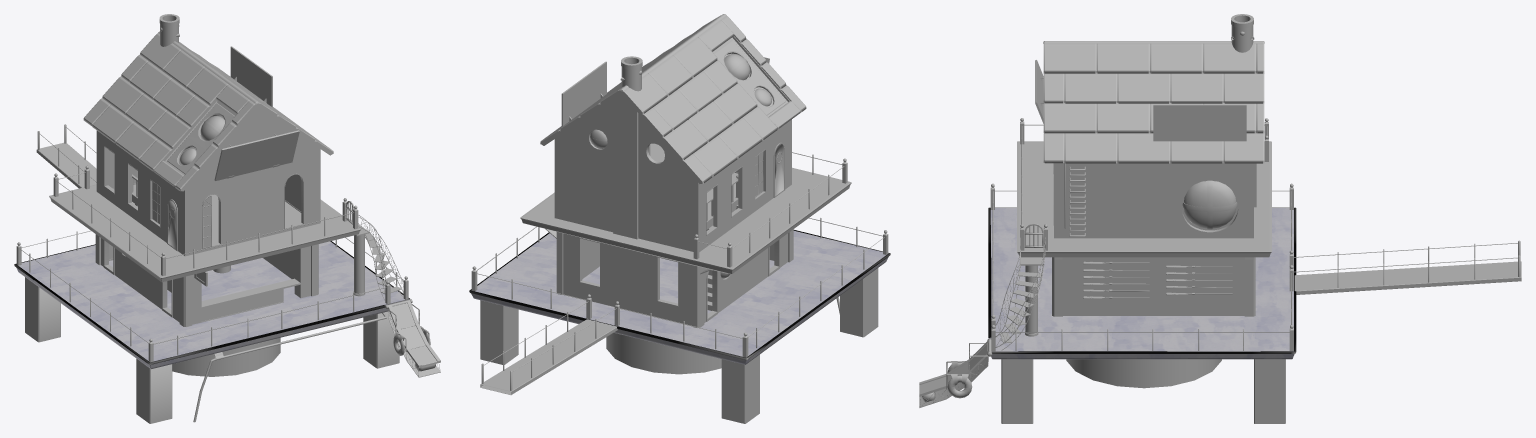
The model's file is ARIACompany0226.fbx.
3 views of the same model, side by side, from view 1: azimuth 30°, elevation 25°; view 2: azimuth 150°, elevation 25°; view 3: azimuth 270°, elevation 25° (orthographic). The views are drawn at different scales.
Visible parts, largest first — view 1: Ground_1st, Wall_2nd_3rd, Roof01, 2nd_Ground, Wall_1st, ARIAboard_01, Cylinder01, Plane09, 1f_FrontCounter, Plane11, Plane10, GondolaStair (+14 smaller); view 2: Ground_1st, Wall_2nd_3rd, Roof01, Wall_1st, 2nd_Ground, Fireplace_Chimney_Interior, Bridge, Cylinder01, Plane11, Plane12, Plane09, Ground_1st_Decals01 (+10 smaller); view 3: RoofBrick_23, Ground_1st, Wall_2nd_3rd, Wall_1st, 2nd_Ground, Bridge, ARIAboard_02, Cylinder01, WindowBigBubble, Plane10, Plane12, Ground_1st_Decals01 (+8 smaller).
Part boxes in pixels (bbox=[...]): Ground_1st: bbox=[16, 241, 409, 369]; Wall_2nd_3rd: bbox=[96, 107, 320, 256]; Roof01: bbox=[83, 33, 255, 191]; 2nd_Ground: bbox=[49, 184, 361, 282]; Wall_1st: bbox=[101, 206, 310, 324]; ARIAboard_01: bbox=[214, 130, 299, 180]; Cylinder01: bbox=[172, 337, 280, 376]; Plane09: bbox=[136, 359, 172, 423]; 1f_FrontCounter: bbox=[201, 278, 300, 322]; Plane11: bbox=[25, 277, 60, 342]; Plane10: bbox=[363, 311, 399, 368]; GondolaStair: bbox=[388, 301, 440, 367]; Ground_1st: bbox=[471, 230, 888, 364]; Wall_2nd_3rd: bbox=[554, 100, 791, 251]; Roof01: bbox=[623, 16, 806, 183]; Wall_1st: bbox=[563, 233, 787, 325]; 2nd_Ground: bbox=[520, 167, 851, 273]; Fireplace_Chimney_Interior: bbox=[613, 95, 650, 239]; Bridge: bbox=[480, 319, 617, 394]; Cylinder01: bbox=[606, 332, 721, 374]; Plane11: bbox=[721, 354, 759, 423]; Plane12: bbox=[480, 300, 518, 364]; Plane09: bbox=[840, 268, 878, 337]; Ground_1st_Decals01: bbox=[469, 230, 890, 360]; RoofBrick_23: bbox=[1043, 43, 1264, 163]; Ground_1st: bbox=[988, 208, 1294, 359]; Wall_2nd_3rd: bbox=[1054, 163, 1253, 238]; Wall_1st: bbox=[1063, 257, 1244, 315]; 2nd_Ground: bbox=[1017, 141, 1271, 257]; Bridge: bbox=[1294, 261, 1521, 294]; ARIAboard_02: bbox=[1153, 104, 1246, 141]; Cylinder01: bbox=[1066, 359, 1221, 388]; WindowBigBubble: bbox=[1181, 180, 1238, 230]; Plane10: bbox=[1001, 359, 1033, 423]; Plane12: bbox=[1254, 359, 1285, 423]; Ground_1st_Decals01: bbox=[988, 207, 1296, 353].
Bounding box in the file's own units: 1251 × 1361 × 2180.
